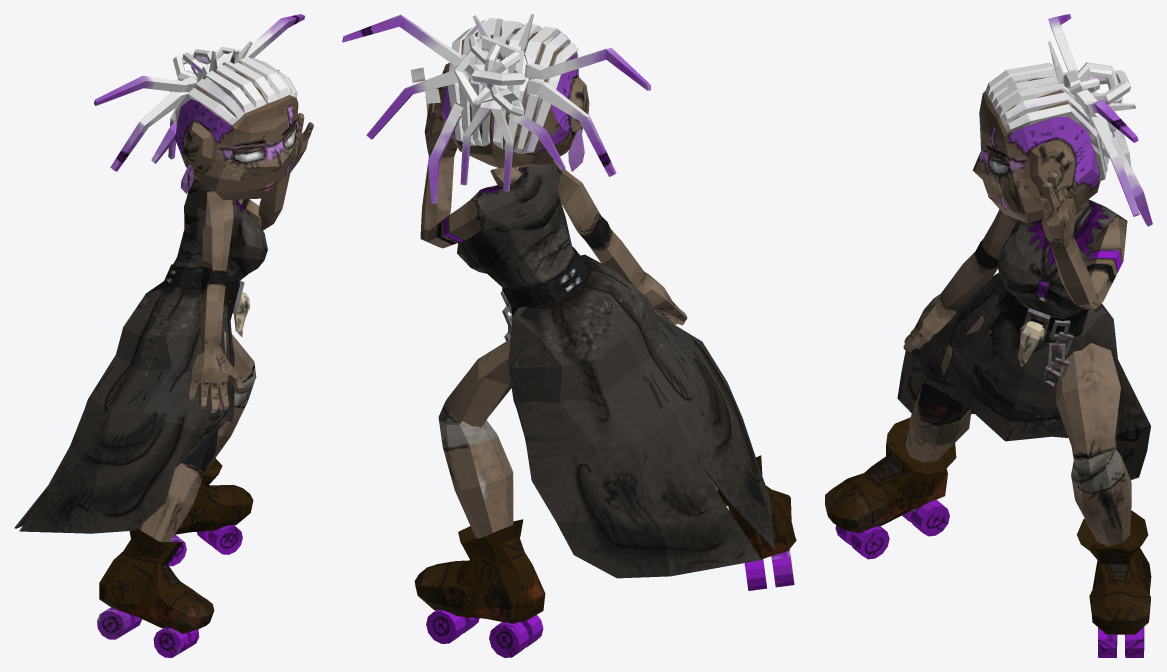
File: bruja_000054.obj
The picture shows the model from 3 angles, left to right: view 1: azimuth 30°, elevation 25°; view 2: azimuth 150°, elevation 25°; view 3: azimuth 270°, elevation 25°; orthographic projection. The views are drawn at different scales.
Visible parts, largest first — view 1: Bruja_Plane.001; view 2: Bruja_Plane.001; view 3: Bruja_Plane.001.
Boxes of the visible parts, bbox=[...] form: Bruja_Plane.001: bbox=[14, 14, 313, 657]; Bruja_Plane.001: bbox=[342, 14, 796, 657]; Bruja_Plane.001: bbox=[825, 14, 1152, 657].
Size of the model in its own units: 10.12 by 15.42 by 7.71.
